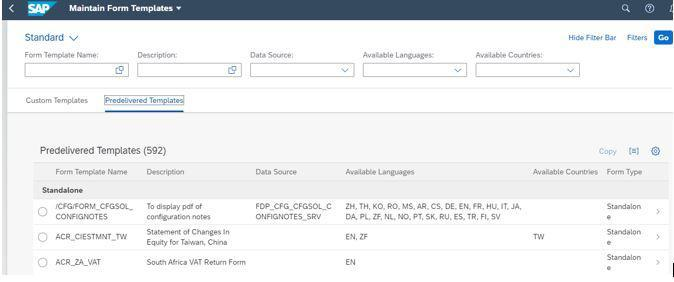button: (106, 95, 186, 107), (656, 32, 674, 45)
dropdown: (364, 64, 468, 78), (476, 64, 581, 77), (251, 64, 354, 77)
icon: (27, 1, 58, 18), (648, 144, 665, 159), (644, 2, 658, 16), (627, 146, 643, 158), (621, 3, 635, 15), (9, 4, 19, 17)
input: (138, 64, 242, 78), (27, 65, 131, 78)
label: (24, 50, 101, 62), (474, 51, 549, 62), (24, 96, 90, 107), (568, 33, 621, 45), (361, 52, 439, 60), (246, 52, 300, 62), (138, 50, 178, 61), (595, 145, 620, 157), (626, 35, 650, 43)
radio: (38, 207, 49, 218), (39, 257, 49, 269), (38, 233, 49, 243)
table: (34, 163, 672, 280)
